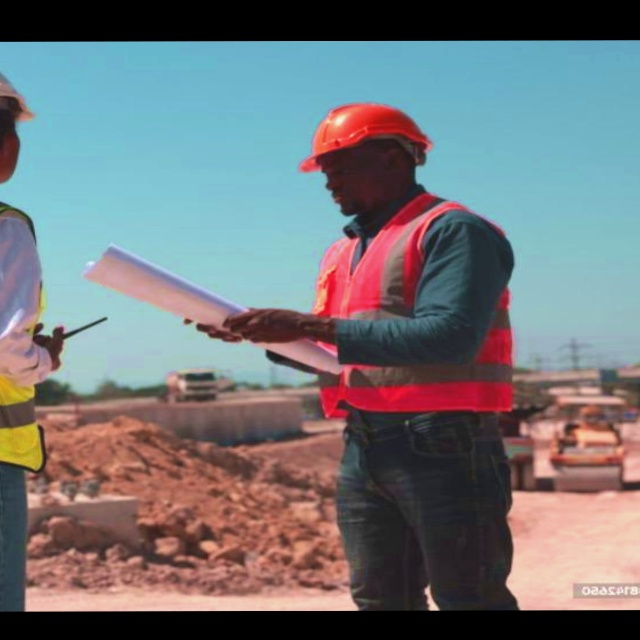Con_Chaleco: (312, 196, 517, 424), (0, 195, 54, 466)
